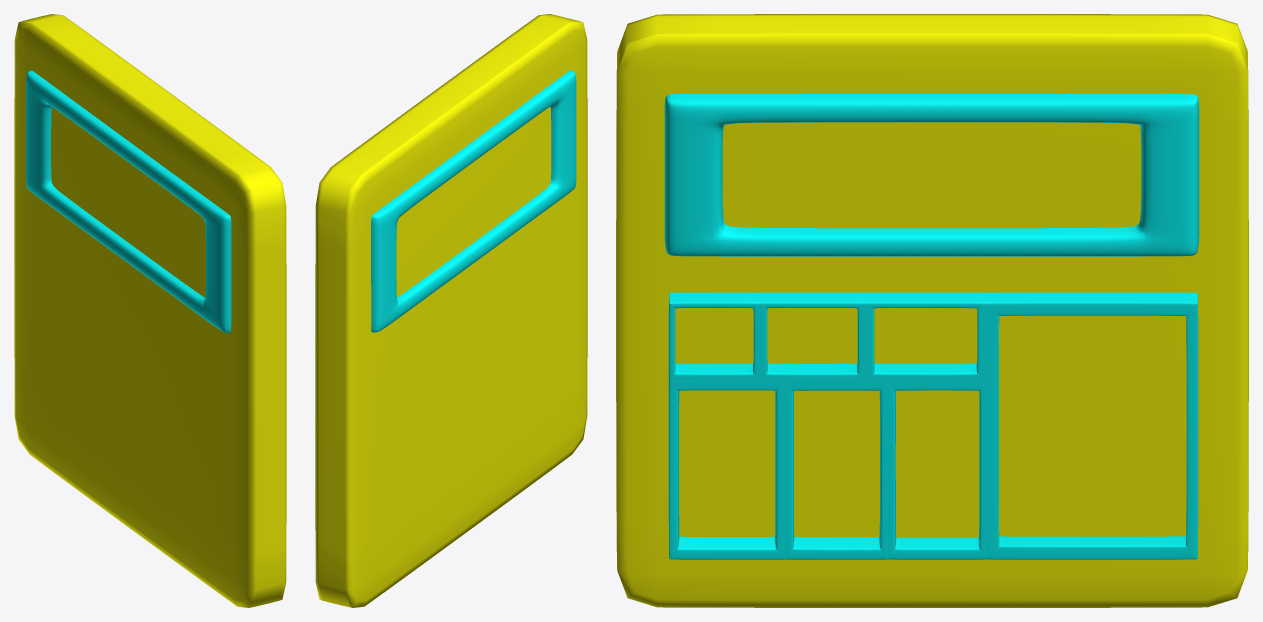
The picture shows the model from 3 angles, left to right: view 1: azimuth 30°, elevation 25°; view 2: azimuth 150°, elevation 25°; view 3: azimuth 270°, elevation 25°; orthographic projection. The views are drawn at different scales.
Parts seen in each view (by area): view 1: polySurface954; view 2: polySurface954; view 3: polySurface954.
Boxes of the visible parts, x1,y1,x2,y2 form: polySurface954: [14, 14, 286, 607]; polySurface954: [315, 14, 587, 607]; polySurface954: [616, 14, 1248, 607].
Size of the model in its own units: 0.155 by 0.9994 by 0.9994.
